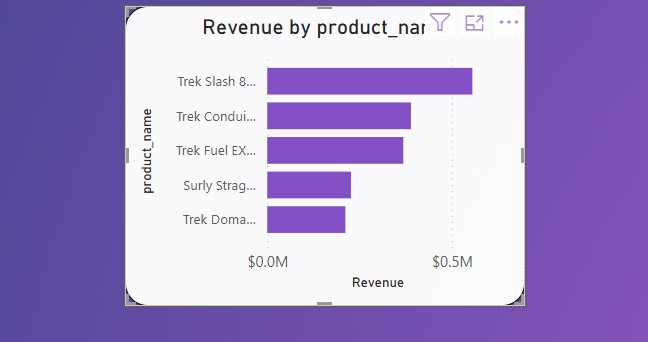

Layout of this report page (visuals, bound fields, positions):
{"tool":"powerbi","page":{"name":"tooltip 1","canvas":[320,240],"ordinal":4},"visuals":[{"type":"barChart","fields":{"Y":["Table.Revenue"],"Category":["Products.product_name"]},"box":[0,0,320,240],"z":0}]}

Visuals, with their boxes on the page's 320x240 design canvas (x1, y1, x2, y2). These are canvas units, not pixel positions in the 648x342 screenshot, which may show the page scaled, cropped or inside an application window:
barChart - Table.Revenue x Products.product_name: left=0, top=0, right=320, bottom=240
